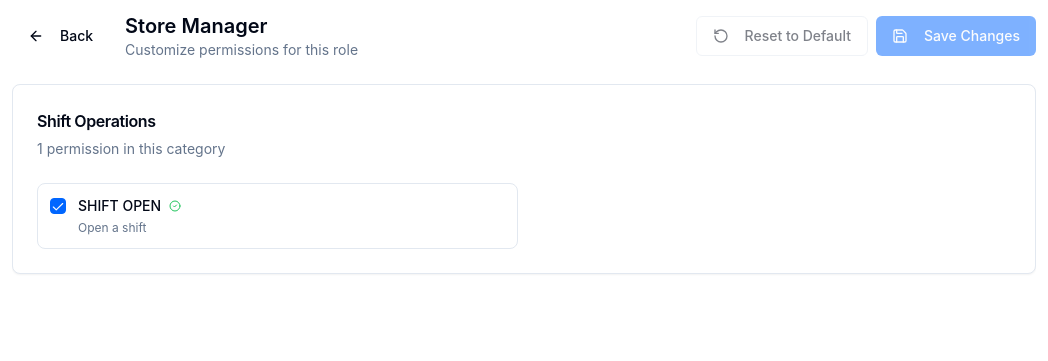
Scenario: 2.92-COMPONENT: RolePermissionEditor - Toggle Functionality › [P0] 2.92-COMPONENT-030: should toggle permission on/off (AC #2)
The width and height of the screenshot is (1048, 361).
Click the checkbox: (58, 206) left=50, top=198, right=66, bottom=214
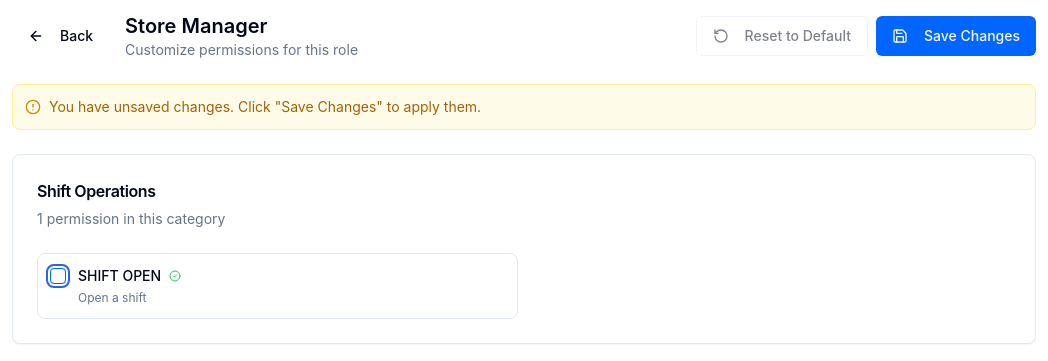
Expected: the text "unsaved changes" is shown, left=49, top=98, right=481, bottom=115
